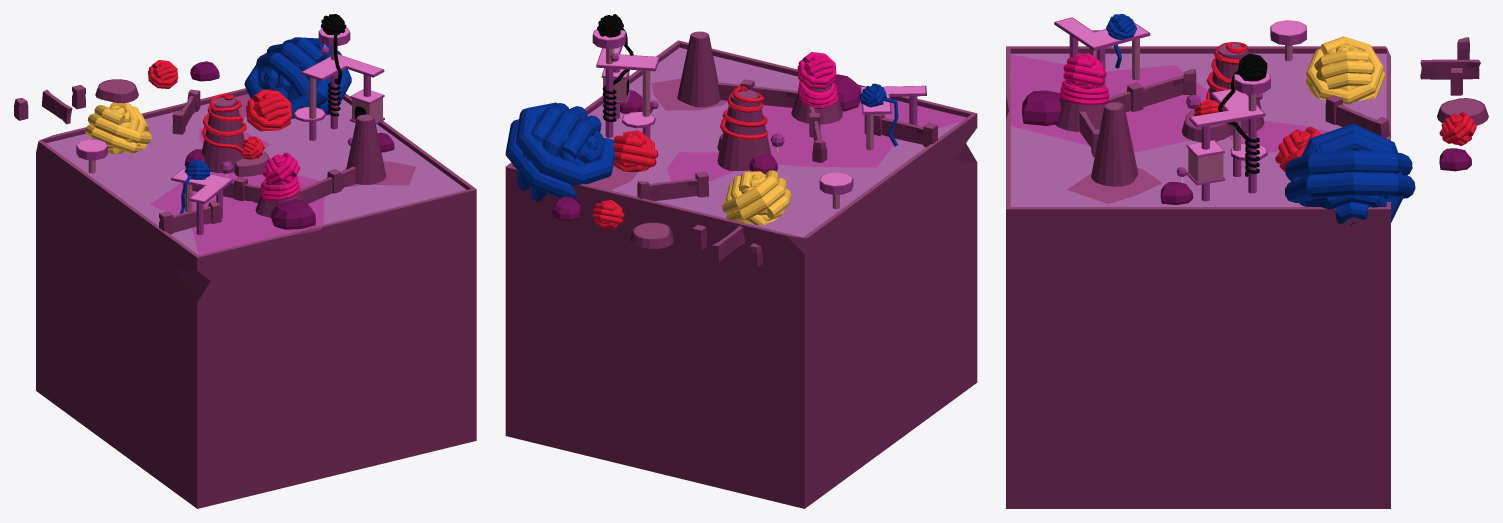
Rendered from Map2.glb.
3 renders of one model, left to right at view 1: azimuth 30°, elevation 25°; view 2: azimuth 150°, elevation 25°; view 3: azimuth 270°, elevation 25°, orthographic. The views are drawn at different scales.
Visible parts, largest first — view 1: Plane.001-col, Ground-col, Plane.004, Spiral.010-col, Plane.002, Mountain.002-col, Spiral.005-col, Mountain.001-col, Spiral.011-col, Big Bush, Spiral.026, Spiral.014-col (+10 smaller); view 2: Plane.001-col, Ground-col, Plane.004, Spiral.011-col, Spiral.010-col, Mountain.001-col, Mountain.002-col, Spiral.005-col, Plane.002, Plane.003, Spiral.026, Spiral.014-col (+16 smaller); view 3: Plane.001-col, Ground-col, Plane.004, Spiral.011-col, Mountain.002-col, Plane.002, Spiral.005-col, Spiral.010-col, Spiral.004-col, Plane.005, Big YarnBall-col, Big Bush (+17 smaller).
Part boxes in pixels (box(x1,y1,x2,y2)): Plane.001-col: box(36, 90, 476, 508); Ground-col: box(46, 99, 466, 255); Plane.004: box(150, 171, 324, 254); Spiral.010-col: box(256, 38, 328, 108); Plane.002: box(38, 88, 476, 257); Mountain.002-col: box(346, 114, 385, 184); Spiral.005-col: box(85, 105, 151, 153); Mountain.001-col: box(201, 98, 244, 173); Spiral.011-col: box(244, 37, 351, 118); Big Bush: box(271, 199, 315, 229); Spiral.026: box(202, 93, 246, 152); Spiral.014-col: box(246, 89, 292, 131); Plane.001-col: box(505, 43, 977, 508); Ground-col: box(587, 47, 961, 237); Plane.004: box(761, 100, 966, 167); Spiral.011-col: box(505, 102, 615, 199); Spiral.010-col: box(517, 103, 601, 201); Mountain.001-col: box(717, 89, 771, 171); Mountain.002-col: box(677, 32, 720, 107); Spiral.005-col: box(722, 170, 791, 221); Plane.002: box(505, 40, 976, 237); Plane.003: box(667, 152, 735, 181); Spiral.026: box(720, 86, 767, 139); Spiral.014-col: box(613, 135, 658, 167); Plane.001-col: box(1006, 48, 1390, 508); Ground-col: box(1010, 53, 1386, 206); Plane.004: box(1010, 54, 1207, 152); Spiral.011-col: box(1285, 150, 1415, 202); Mountain.002-col: box(1091, 102, 1138, 186); Plane.002: box(1006, 46, 1390, 208); Spiral.005-col: box(1305, 36, 1385, 104); Spiral.010-col: box(1291, 123, 1403, 222); Spiral.004-col: box(1309, 50, 1375, 89); Plane.005: box(1067, 168, 1162, 203); Big YarnBall-col: box(1306, 147, 1388, 225); Big Bush: box(1021, 90, 1060, 125).
Bounding box in the file's own units: 64.51 × 76.29 × 77.78.
